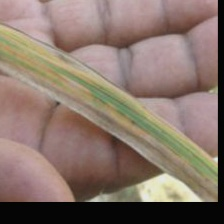Leaf_Blast: (0, 16, 198, 172)
